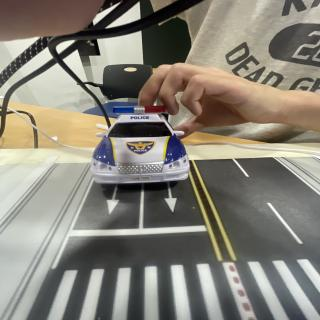Police_car: (91, 106, 190, 183)
